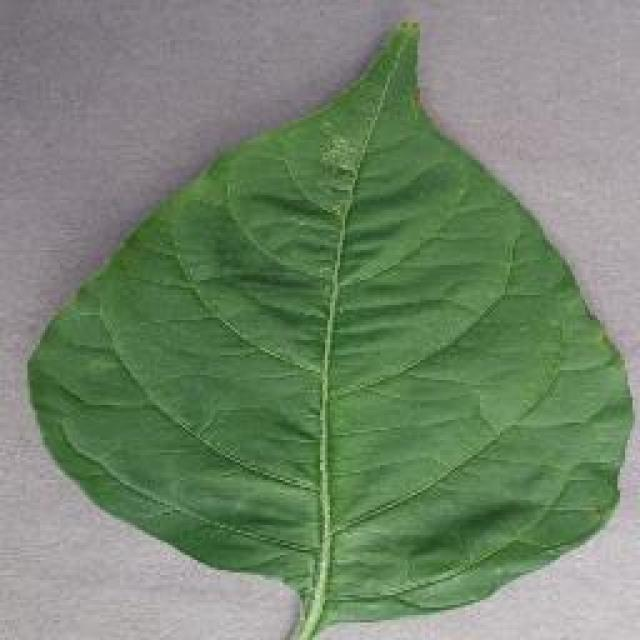Leaf: (218, 166, 566, 468)
